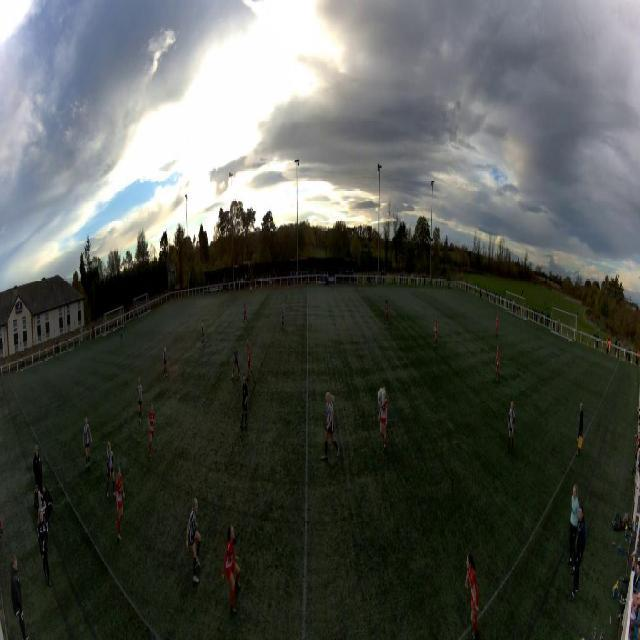ball: (377, 387, 386, 405)
player: (221, 523, 241, 615), (186, 495, 202, 586), (319, 390, 339, 460), (115, 466, 124, 544), (83, 413, 92, 473), (106, 442, 115, 499), (240, 372, 249, 429), (379, 409, 389, 451), (148, 401, 155, 458), (507, 401, 514, 453), (232, 342, 241, 380), (137, 377, 143, 425), (247, 341, 254, 381), (163, 341, 168, 379), (495, 346, 500, 382), (433, 315, 438, 345), (385, 301, 390, 326), (202, 321, 206, 348), (281, 303, 285, 330), (244, 301, 248, 323), (495, 314, 498, 338), (120, 330, 124, 347)
